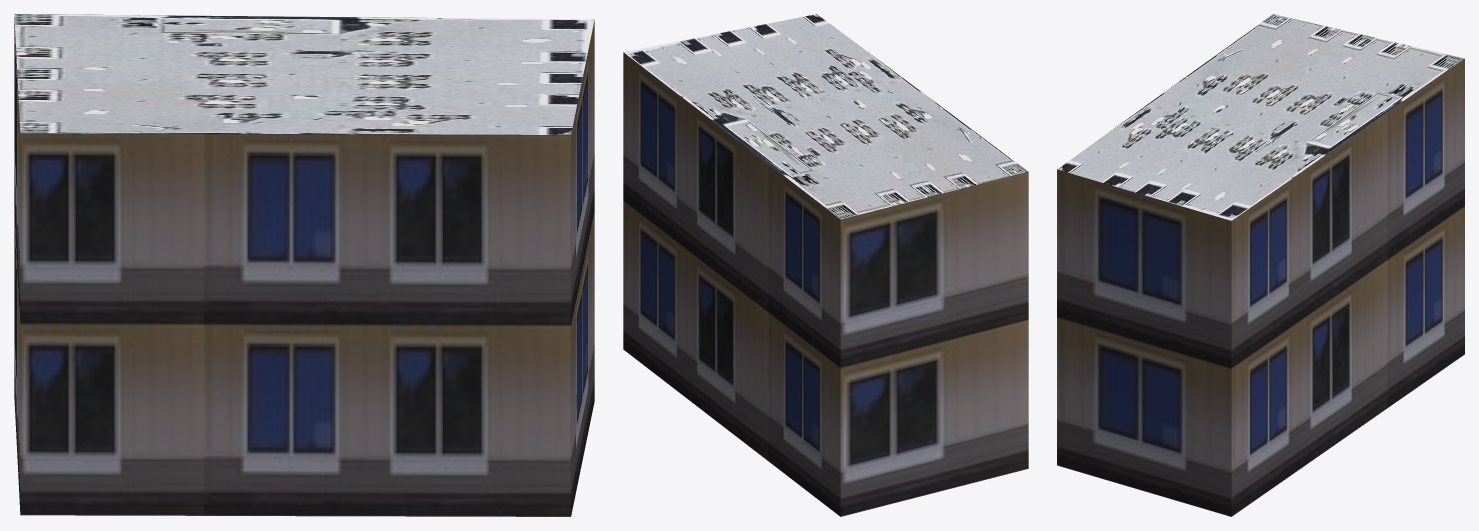
The model's file is ResTex__1145.fbx.
The picture shows the model from 3 angles, left to right: view 1: azimuth 30°, elevation 25°; view 2: azimuth 150°, elevation 25°; view 3: azimuth 270°, elevation 25°; orthographic projection. The views are drawn at different scales.
Parts seen in each view (by area): view 1: CityEngineMaterial_5_m, CityEngineMaterial_8_m; view 2: CityEngineMaterial_5_m, CityEngineMaterial_8_m; view 3: CityEngineMaterial_5_m, CityEngineMaterial_8_m.
Part boxes in pixels (left/top/right/bottom): CityEngineMaterial_5_m: left=14, top=17, right=594, bottom=516; CityEngineMaterial_8_m: left=14, top=14, right=594, bottom=134; CityEngineMaterial_5_m: left=623, top=52, right=1028, bottom=516; CityEngineMaterial_8_m: left=624, top=14, right=1028, bottom=219; CityEngineMaterial_5_m: left=1057, top=58, right=1464, bottom=516; CityEngineMaterial_8_m: left=1057, top=14, right=1464, bottom=220.
Bounding box in the file's own units: 9 × 6 × 7.49.
Materials: 2 (2 with a texture image).
